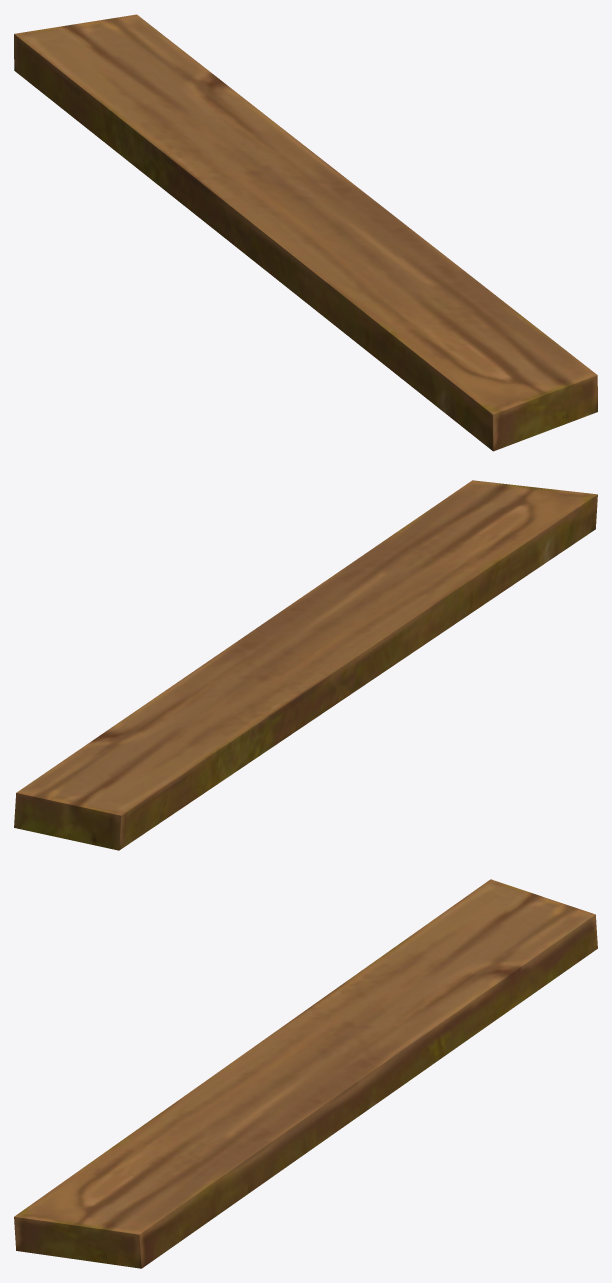
File: CeShi_BFB07_Pinmutou02.FBX
3 views of the same model, one above another, from view 1: azimuth 30°, elevation 25°; view 2: azimuth 150°, elevation 25°; view 3: azimuth 330°, elevation 25° (orthographic). The views are drawn at different scales.
Visible parts, largest first — view 1: CeShi_BFB07_Pinmutou02; view 2: CeShi_BFB07_Pinmutou02; view 3: CeShi_BFB07_Pinmutou02.
Part boxes in pixels (bbox=[...]): CeShi_BFB07_Pinmutou02: bbox=[14, 14, 597, 451]; CeShi_BFB07_Pinmutou02: bbox=[14, 480, 597, 850]; CeShi_BFB07_Pinmutou02: bbox=[14, 879, 597, 1268].
Bounding box in the file's own units: 32.86 × 10.77 × 201.
